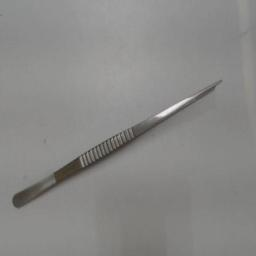DeBakey Dissector: (8, 60, 230, 226)
